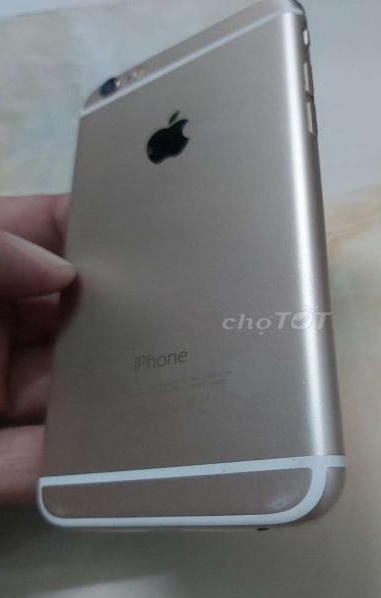scratch: (240, 459, 349, 530), (36, 480, 93, 542)
